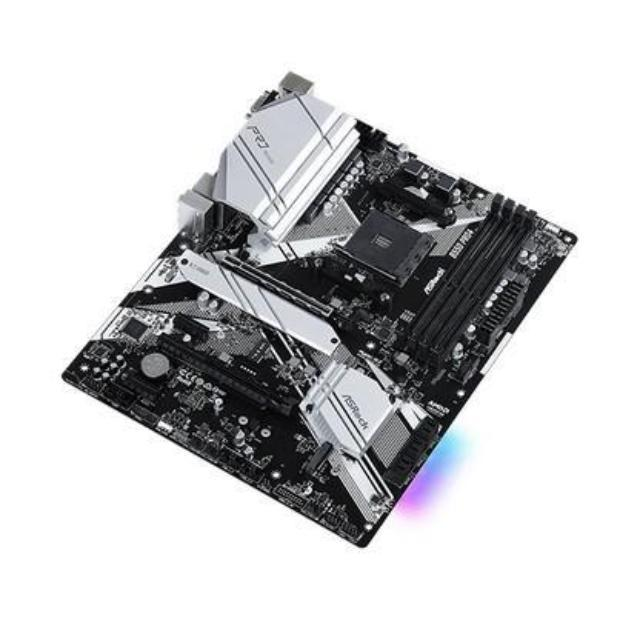Mainboard: (55, 54, 580, 560)
